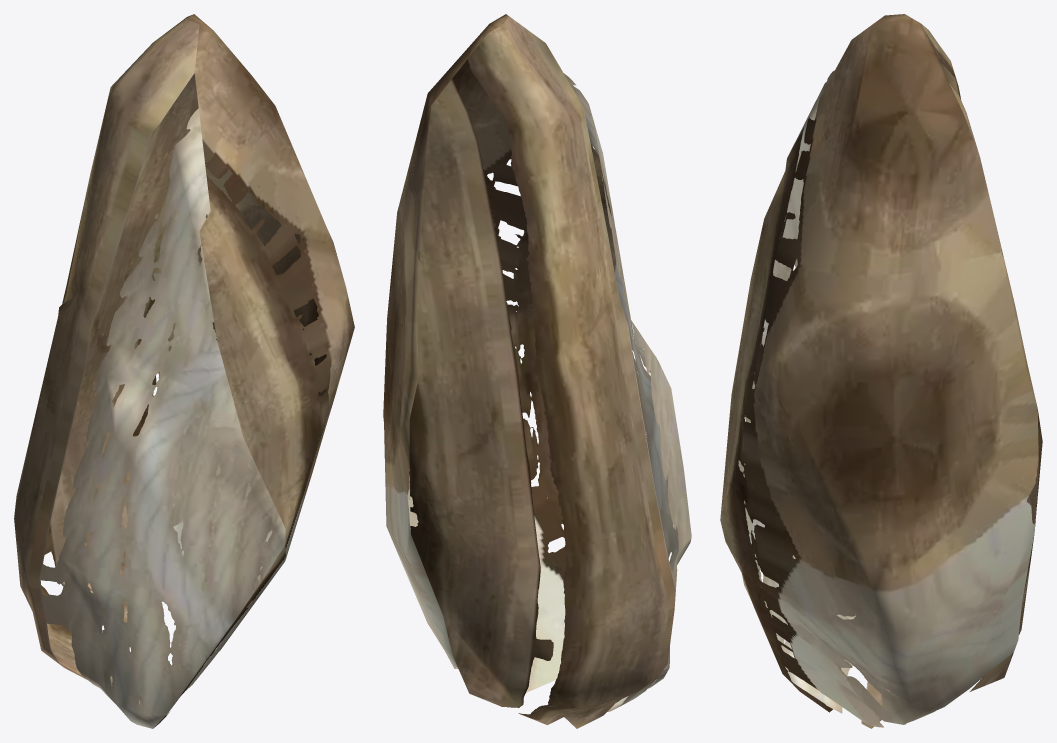
The picture shows the model from 3 angles, left to right: view 1: azimuth 30°, elevation 25°; view 2: azimuth 150°, elevation 25°; view 3: azimuth 270°, elevation 25°; orthographic projection. The views are drawn at different scales.
Visible parts, largest first — view 1: SM_Mystic_Thread_01_LOD0; view 2: SM_Mystic_Thread_01_LOD0; view 3: SM_Mystic_Thread_01_LOD0.
Part boxes in pixels (x1,y1,x2,y2): SM_Mystic_Thread_01_LOD0: [14, 14, 354, 728]; SM_Mystic_Thread_01_LOD0: [383, 14, 691, 728]; SM_Mystic_Thread_01_LOD0: [720, 14, 1042, 728].
Bounding box in the file's own units: 0.4977 × 1.14 × 0.4477.
